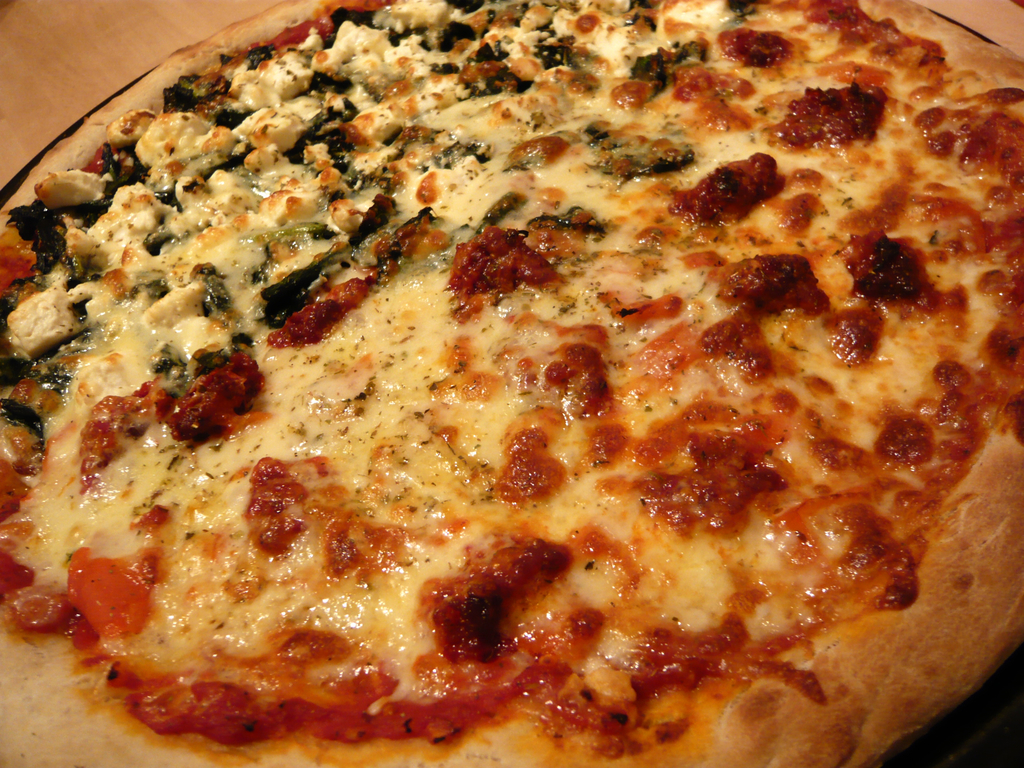Pizza: (29, 1, 1011, 760)
